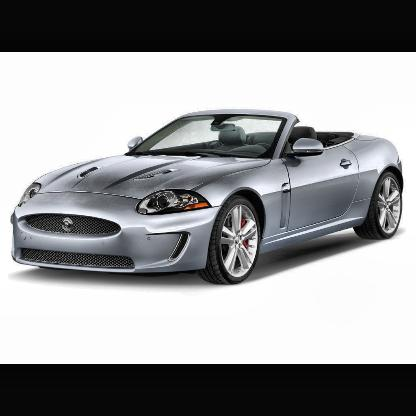Jaguar XK XKR 2012: (3, 91, 416, 309)
